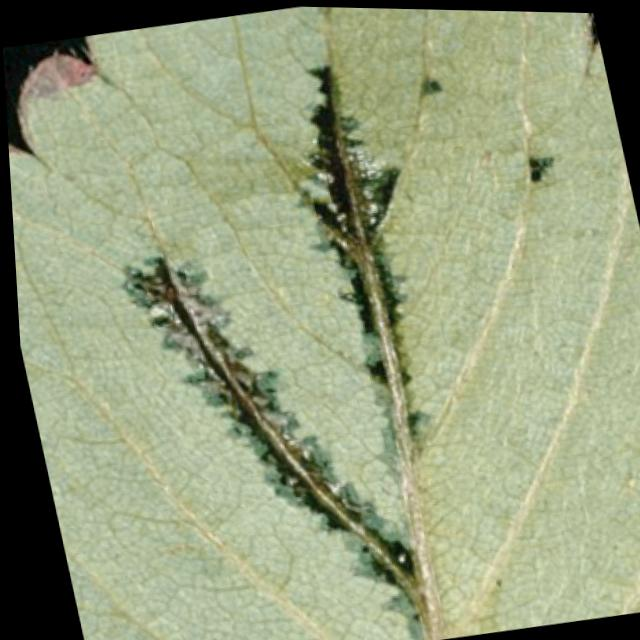Angular Leafspot: (110, 5, 560, 640)
